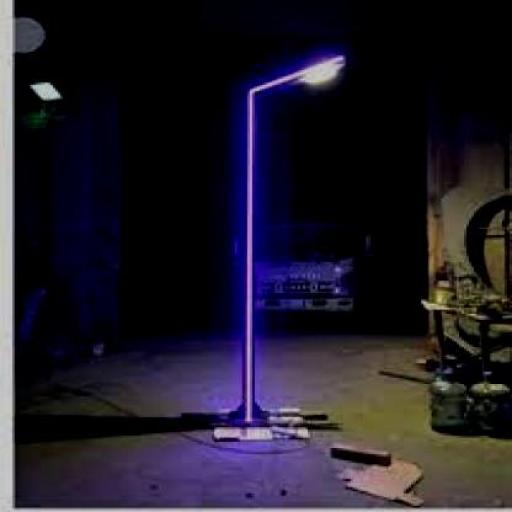street light: (235, 52, 348, 423)
